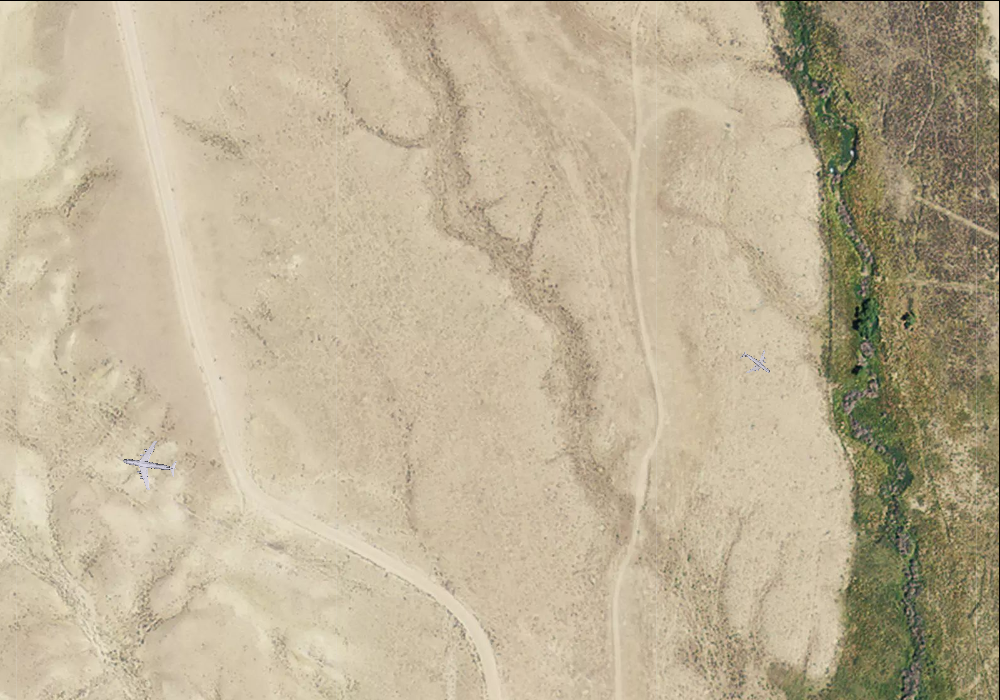plane: (118, 435, 180, 494), (733, 340, 779, 386)
